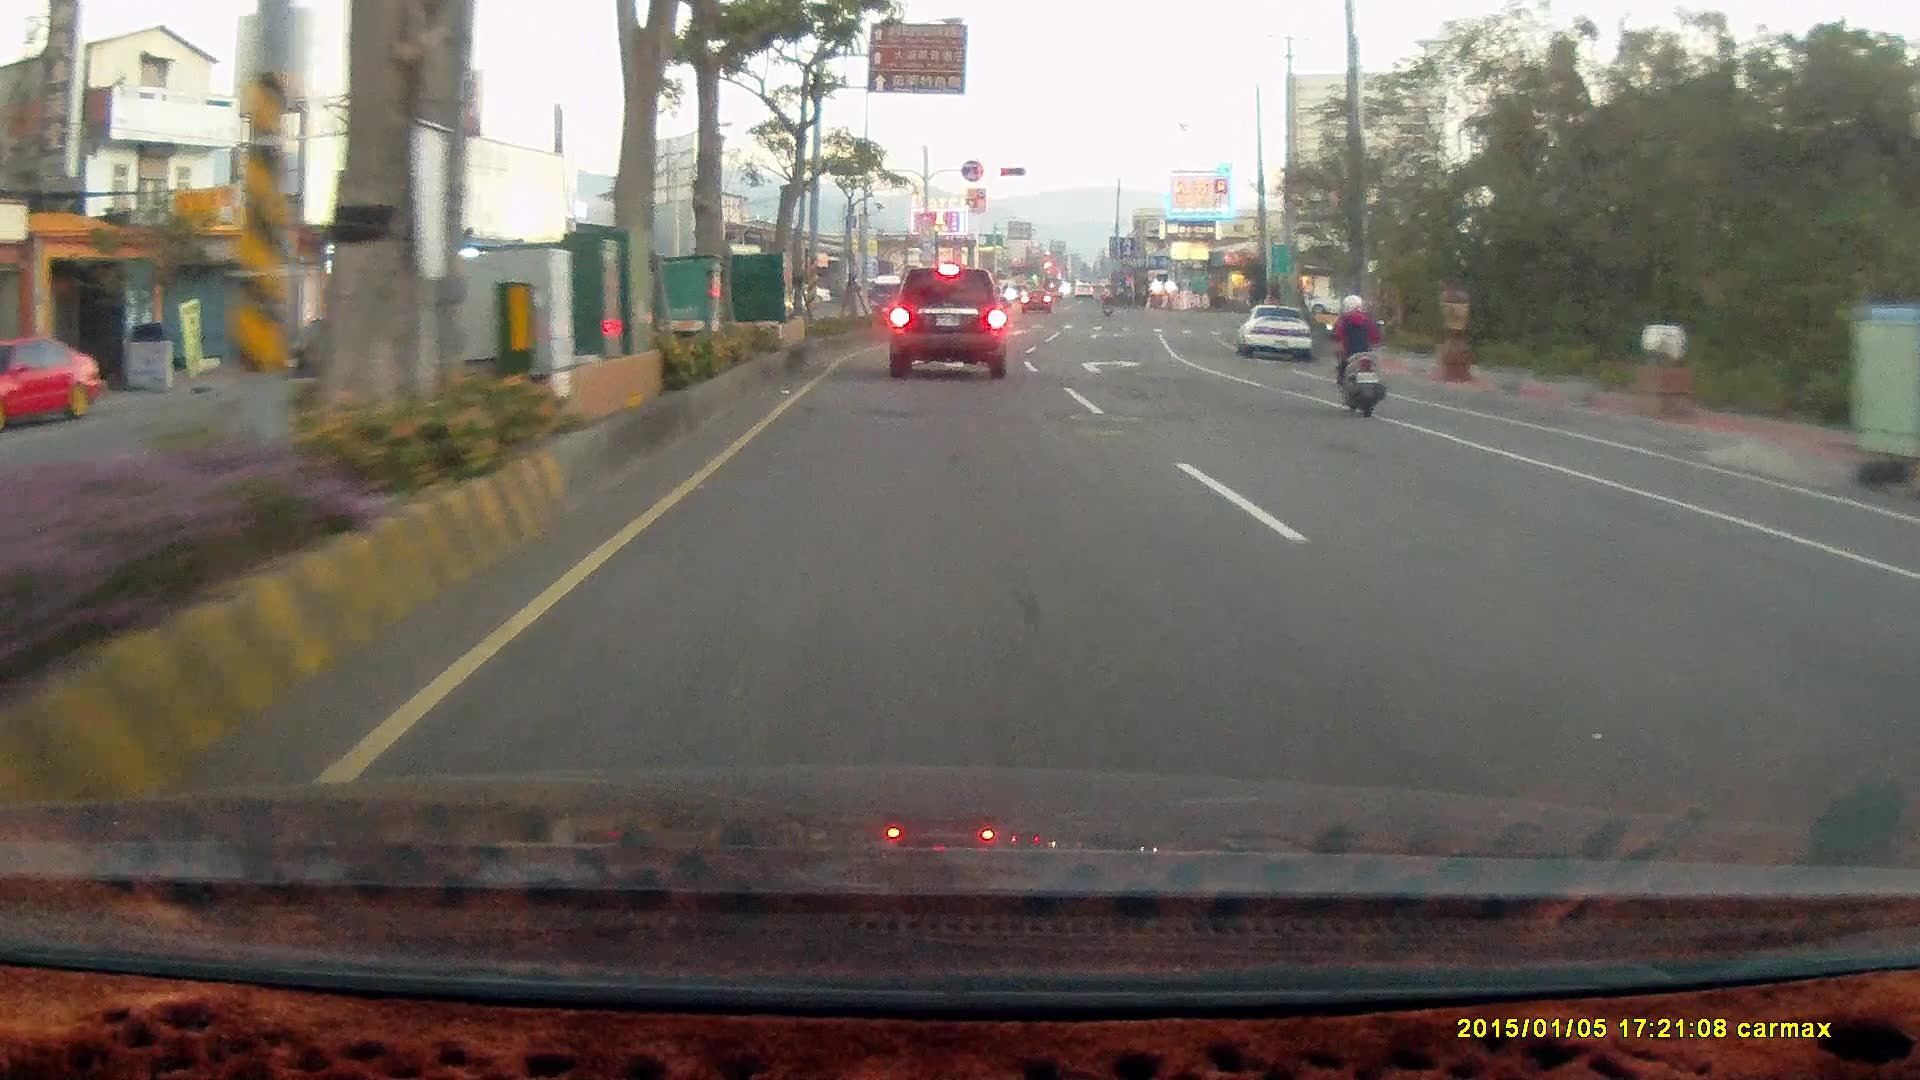rider: (1324, 292, 1387, 418)
vehicle: (886, 264, 1006, 380), (1, 334, 104, 433), (1896, 493, 1920, 836), (1883, 528, 1920, 690), (1233, 301, 1312, 362), (1241, 306, 1315, 361), (1298, 280, 1372, 316)
